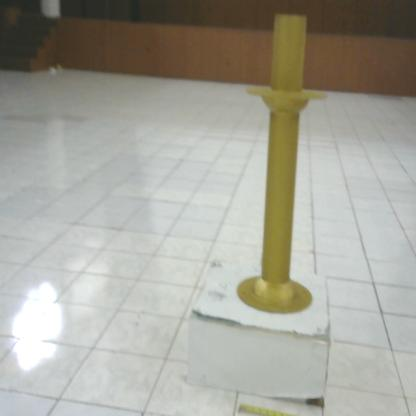pole: (225, 8, 336, 325)
